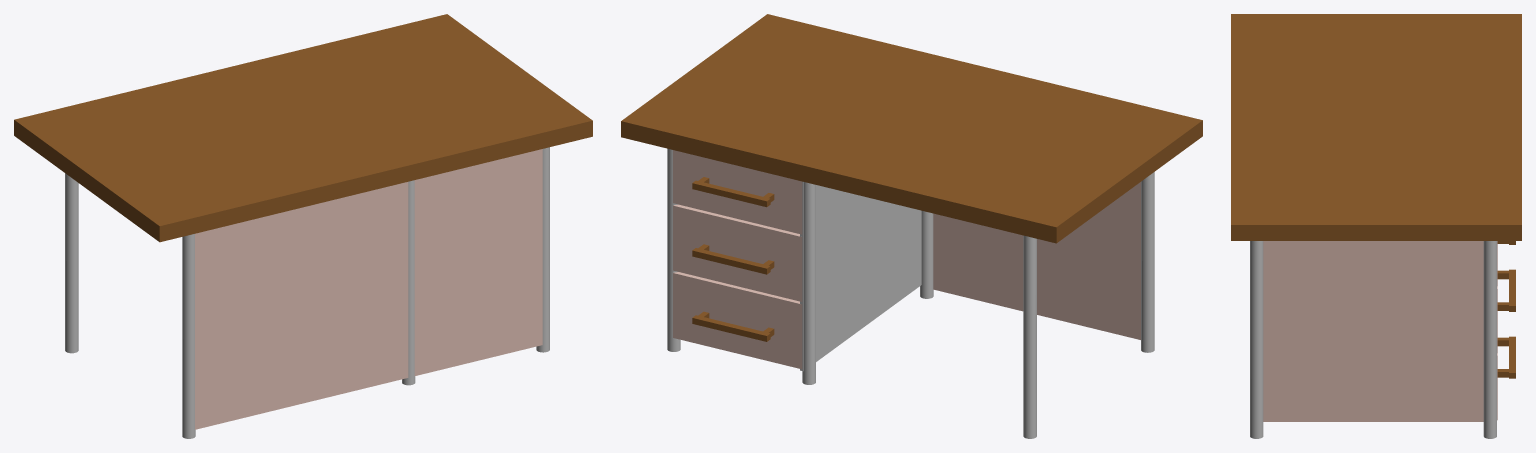
The model's file is 2735a3d6-0b9b-40f4-909f-19b6e54dff9e.glb.
The picture shows the model from 3 angles, left to right: view 1: azimuth 30°, elevation 25°; view 2: azimuth 150°, elevation 25°; view 3: azimuth 270°, elevation 25°; orthographic projection.
Parts seen in each view (by area): view 1: Box029, Box031, Cylinder009, Cylinder011, Cylinder010, Cylinder008; view 2: Box029, Box031, Box023, Box020, Box027, Box032, Cylinder011, Cylinder009, Cylinder012, Cylinder007, Cylinder008, Box021 (+2 smaller); view 3: Box029, Box019, Cylinder007, Cylinder010, Box021, Box018.
Boxes of the visible parts, x1=… form: Box029: x1=14, y1=14, x2=592, y2=242; Box031: x1=195, y1=149, x2=542, y2=429; Cylinder009: x1=182, y1=234, x2=195, y2=438; Cylinder011: x1=65, y1=173, x2=78, y2=353; Cylinder010: x1=536, y1=147, x2=549, y2=352; Cylinder008: x1=402, y1=180, x2=415, y2=385; Box029: x1=621, y1=14, x2=1202, y2=243; Box031: x1=933, y1=182, x2=1140, y2=339; Box023: x1=800, y1=181, x2=921, y2=371; Box020: x1=673, y1=272, x2=802, y2=369; Box027: x1=673, y1=204, x2=802, y2=301; Box032: x1=673, y1=150, x2=802, y2=234; Cylinder011: x1=1023, y1=235, x2=1036, y2=438; Cylinder009: x1=1141, y1=172, x2=1154, y2=352; Cylinder012: x1=802, y1=182, x2=815, y2=384; Cylinder007: x1=667, y1=148, x2=680, y2=351; Cylinder008: x1=920, y1=211, x2=933, y2=298; Box021: x1=692, y1=248, x2=770, y2=274; Box029: x1=1231, y1=14, x2=1521, y2=240; Box019: x1=1263, y1=241, x2=1483, y2=421; Cylinder007: x1=1483, y1=241, x2=1496, y2=438; Cylinder010: x1=1250, y1=241, x2=1263, y2=438; Box021: x1=1509, y1=269, x2=1515, y2=311; Box018: x1=1509, y1=336, x2=1515, y2=378.
Size of the model in its own units: 686929 by 347660 by 400027.
